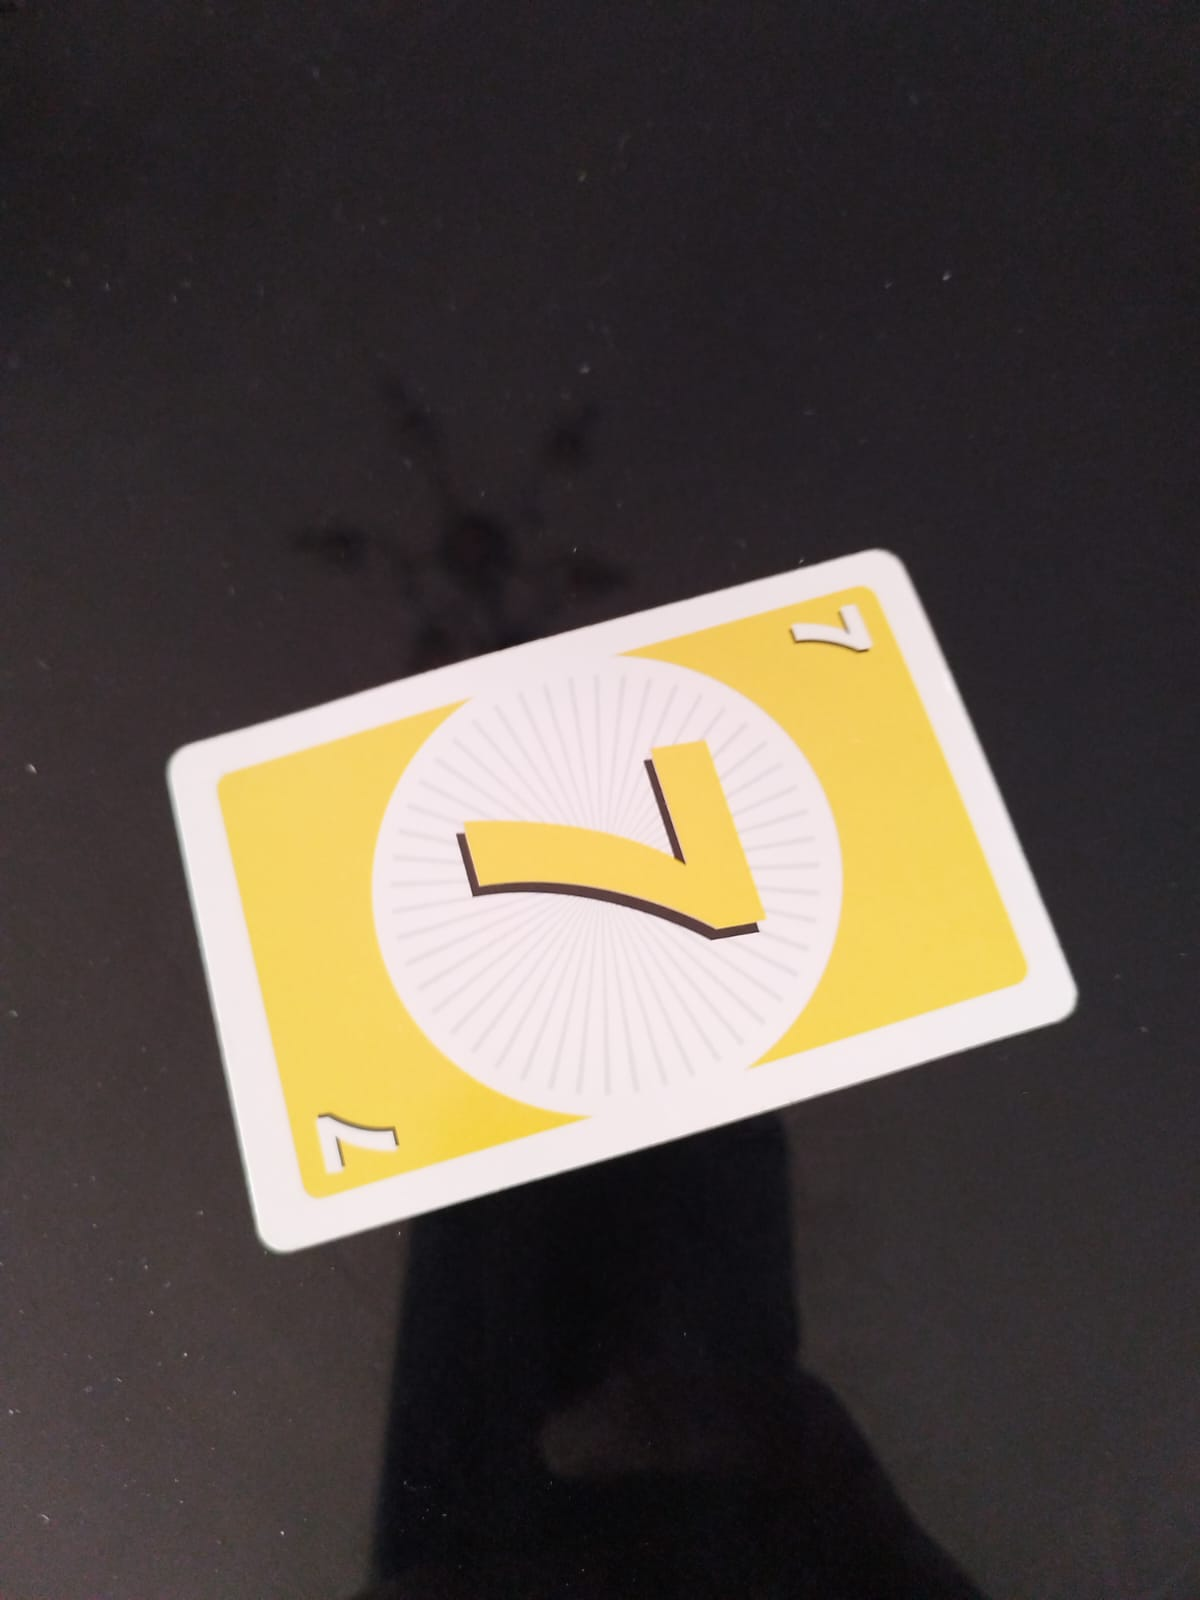skip_red: (432, 733, 793, 999), (297, 1104, 405, 1180), (782, 593, 877, 678)
